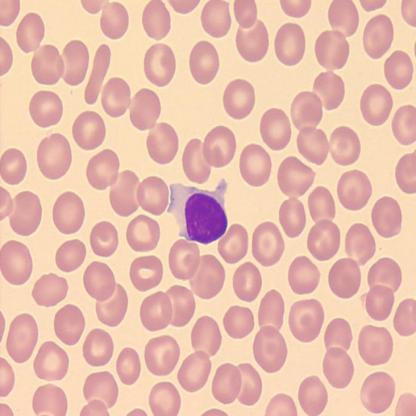Lymphocyte: (167, 175, 229, 246)
